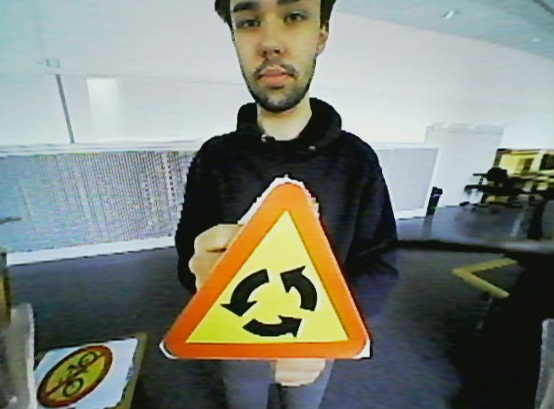roundabout_warning: (160, 174, 380, 365)
